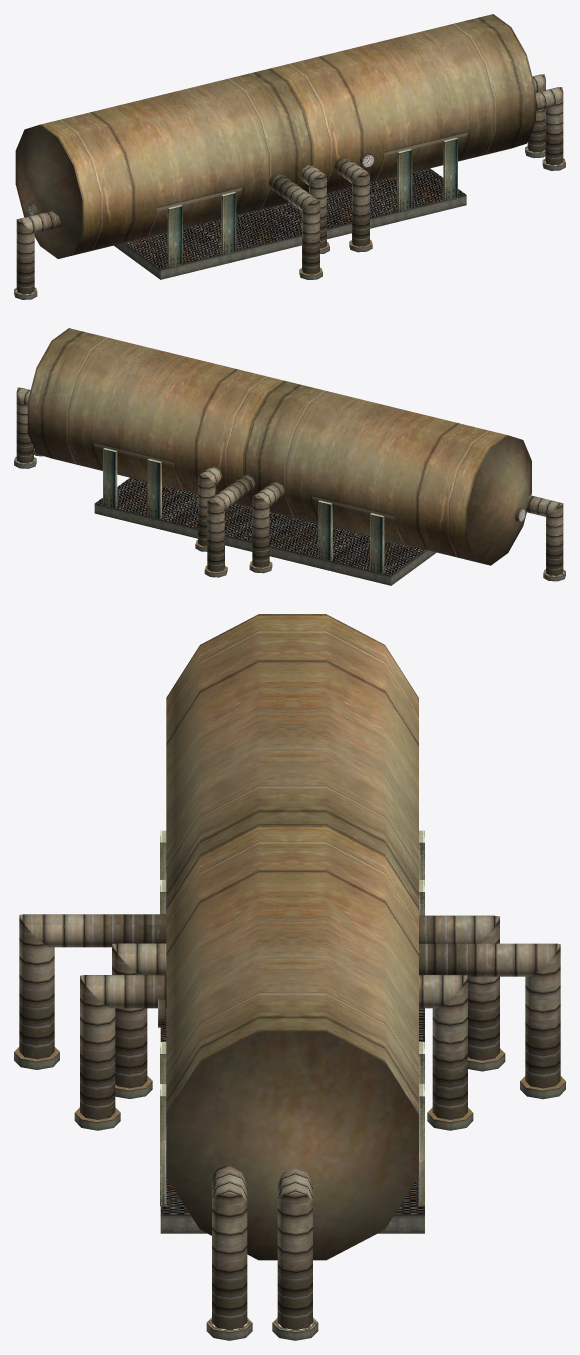
The model's file is fuel_container_large.fbx.
3 renders of one model, top to bottom at view 1: azimuth 30°, elevation 25°; view 2: azimuth 150°, elevation 25°; view 3: azimuth 270°, elevation 25°, orthographic. The views are drawn at different scales.
Visible parts, largest first — view 1: mesh_0, mesh_2, mesh_1; view 2: mesh_0, mesh_2, mesh_1; view 3: mesh_0, mesh_1, mesh_2.
Part boxes in pixels (x1,y1,x2,y2): mesh_0: (14, 14, 565, 299); mesh_2: (124, 168, 465, 269); mesh_1: (15, 124, 82, 258); mesh_0: (14, 328, 565, 585); mesh_2: (95, 477, 426, 575); mesh_1: (467, 435, 531, 565); mesh_0: (14, 614, 565, 1340); mesh_1: (166, 1031, 418, 1260); mesh_2: (160, 1008, 424, 1214).
Bounding box in the file's own units: 718 × 177 × 331.
3 materials, 3 textured.
